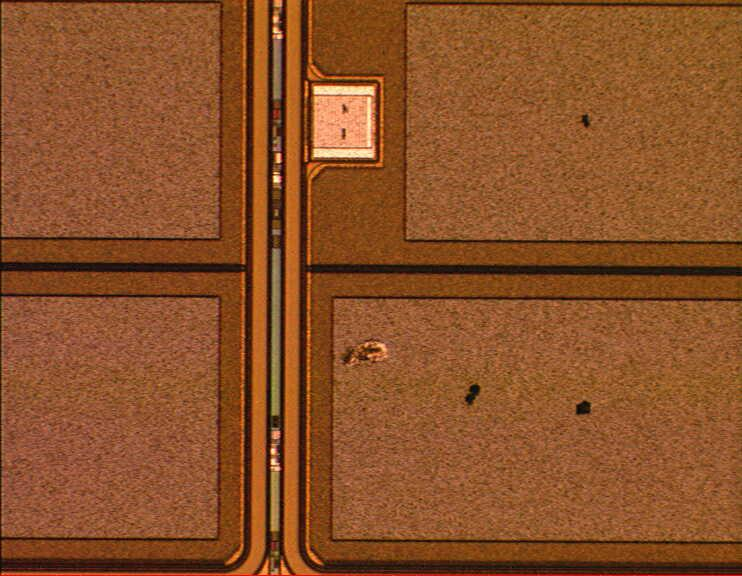SCRATCH: (326, 332, 408, 375)
